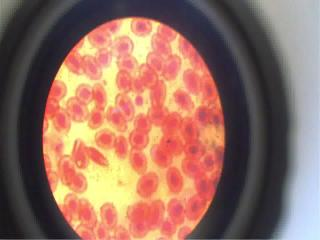cell: (167, 196, 190, 220), (148, 200, 164, 230), (78, 202, 98, 226), (68, 98, 88, 121), (129, 18, 154, 36), (152, 35, 174, 55), (135, 176, 157, 196), (125, 201, 152, 217), (89, 29, 109, 50), (94, 130, 115, 150), (130, 150, 150, 171), (83, 56, 102, 78), (65, 50, 81, 75), (184, 141, 209, 157), (99, 203, 119, 223), (146, 51, 164, 73), (201, 78, 219, 100), (116, 94, 134, 116), (180, 158, 202, 176), (49, 80, 69, 99), (106, 110, 125, 130), (150, 148, 170, 167), (148, 105, 168, 124), (140, 65, 160, 84), (186, 196, 206, 215), (112, 73, 134, 90), (65, 194, 82, 216), (174, 91, 194, 109), (116, 55, 140, 70), (130, 221, 154, 236), (166, 171, 183, 192), (164, 58, 180, 80), (71, 174, 89, 193), (52, 112, 71, 130), (76, 80, 92, 101), (94, 86, 110, 107), (112, 37, 134, 52), (136, 112, 153, 130), (164, 115, 182, 132), (197, 177, 215, 194), (150, 84, 166, 103), (60, 161, 75, 181), (194, 108, 212, 124), (130, 132, 152, 145), (184, 72, 200, 89), (88, 110, 104, 127), (164, 137, 184, 150), (182, 121, 198, 137), (202, 155, 218, 168), (96, 225, 108, 240)
